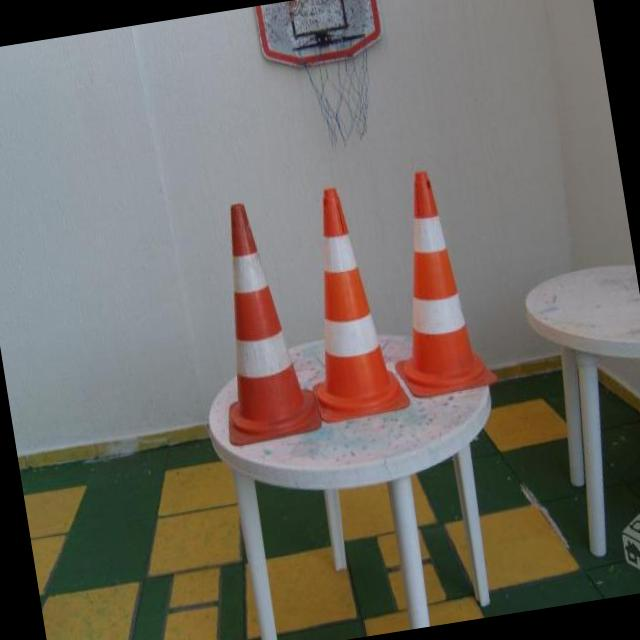Cone: (380, 157, 488, 396), (192, 202, 304, 426), (294, 184, 397, 407)
